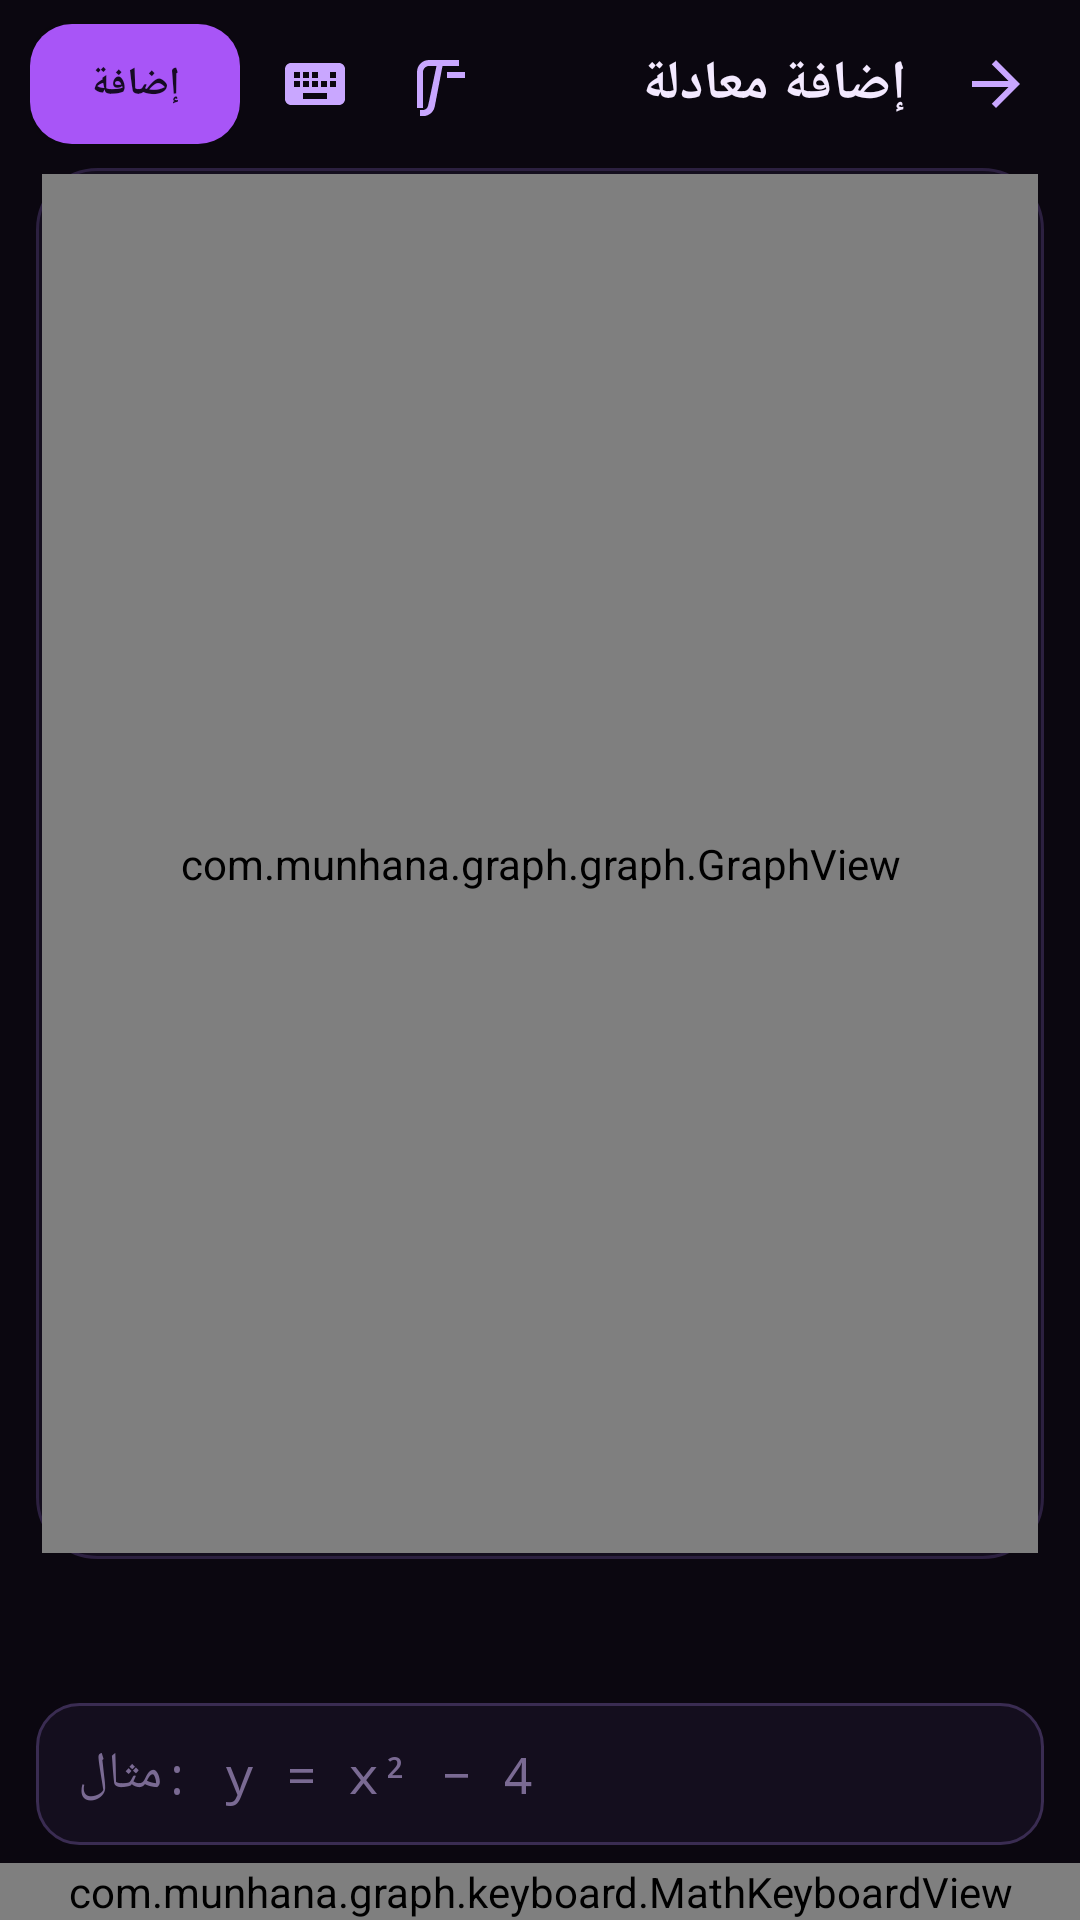

Locate icon controls on the screen. Image size 1080 × 1920, boxes as (x1, y1, x2, y2).
رجوع: (972, 60, 1020, 108)
لوحة الرياضيات: (417, 60, 465, 116)
لوحة المفاتيح: (285, 63, 345, 105)
